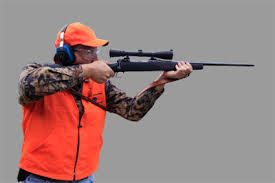Gun: (119, 48, 244, 74)
